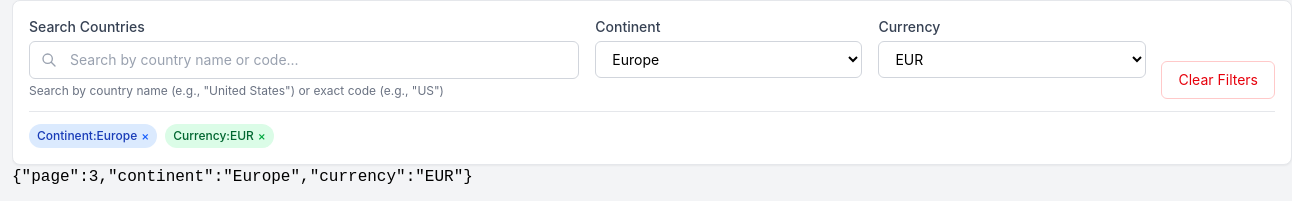
Test case: FilterControls › removes one filter with its chip and keeps the others
Step 1. Click the button named "Remove " → (145, 136), box [141,128,149,144]
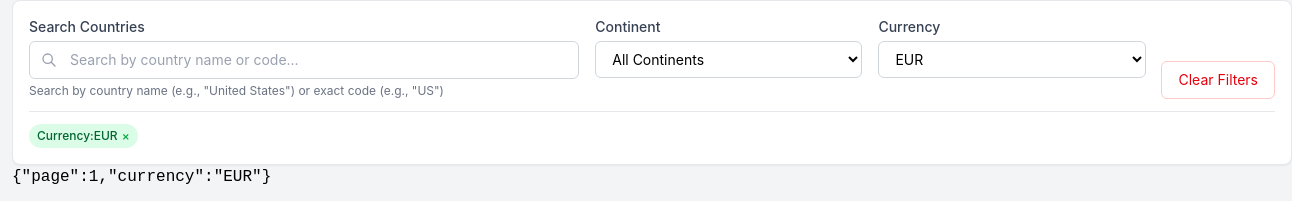
Result: the number of buttons named "Remove " is 1 at [122,128,130,144]
